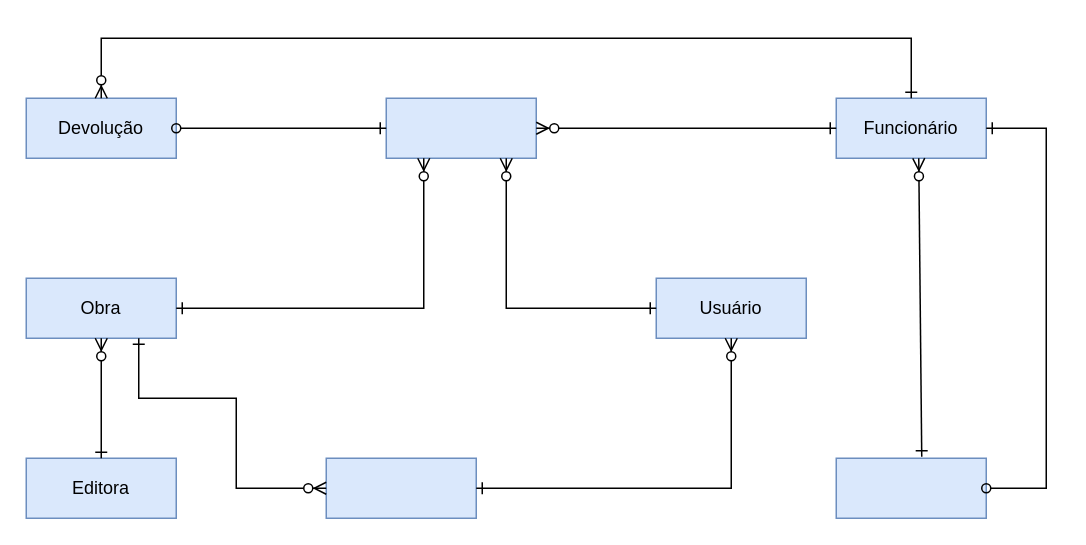
The diagram is 1086 pixels wide and 545 high, and some of its shapes have lost their labels. The centre of each missing label's shape, as x and y in pixels:
Departamento: the point at 910,487
Empréstimo: the point at 460,127
Reserva: the point at 400,487
